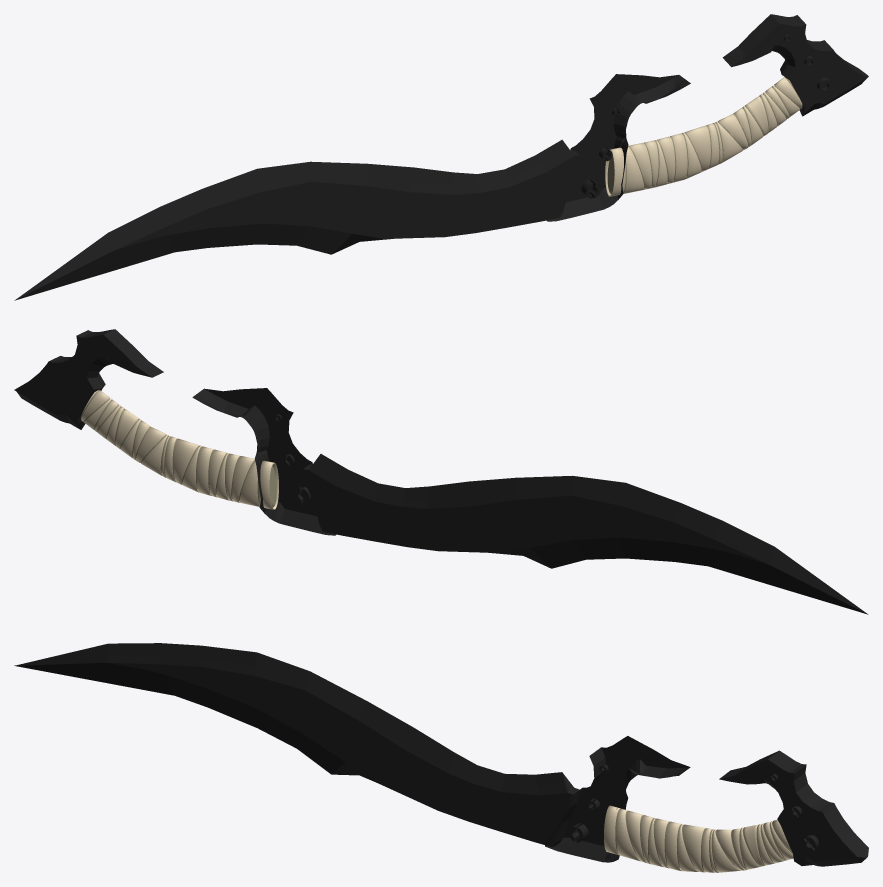
The model's file is Blade.fbx.
3 views of the same model, one above another, from view 1: azimuth 30°, elevation 25°; view 2: azimuth 150°, elevation 25°; view 3: azimuth 330°, elevation 25° (orthographic).
Parts seen in each view (by area): view 1: Plane.001, Cylinder.005, Plane.002, Plane.003; view 2: Plane.001, Cylinder.005, Plane.002, Plane.003; view 3: Plane.001, Cylinder.005, Plane.003, Plane.002.
Part boxes in pixels (x1,y1,x2,y2): Plane.001: (14,139,579,300); Cylinder.005: (605,77,802,196); Plane.002: (546,74,690,221); Plane.003: (722,14,868,116); Plane.001: (303,454,868,614); Cylinder.005: (81,389,278,509); Plane.002: (192,388,336,535); Plane.003: (14,329,163,429); Plane.001: (14,643,579,847); Cylinder.005: (604,805,793,872); Plane.003: (719,750,868,866); Plane.002: (545,736,690,862).
Size of the model in its own units: 984 by 166 by 29.23.
